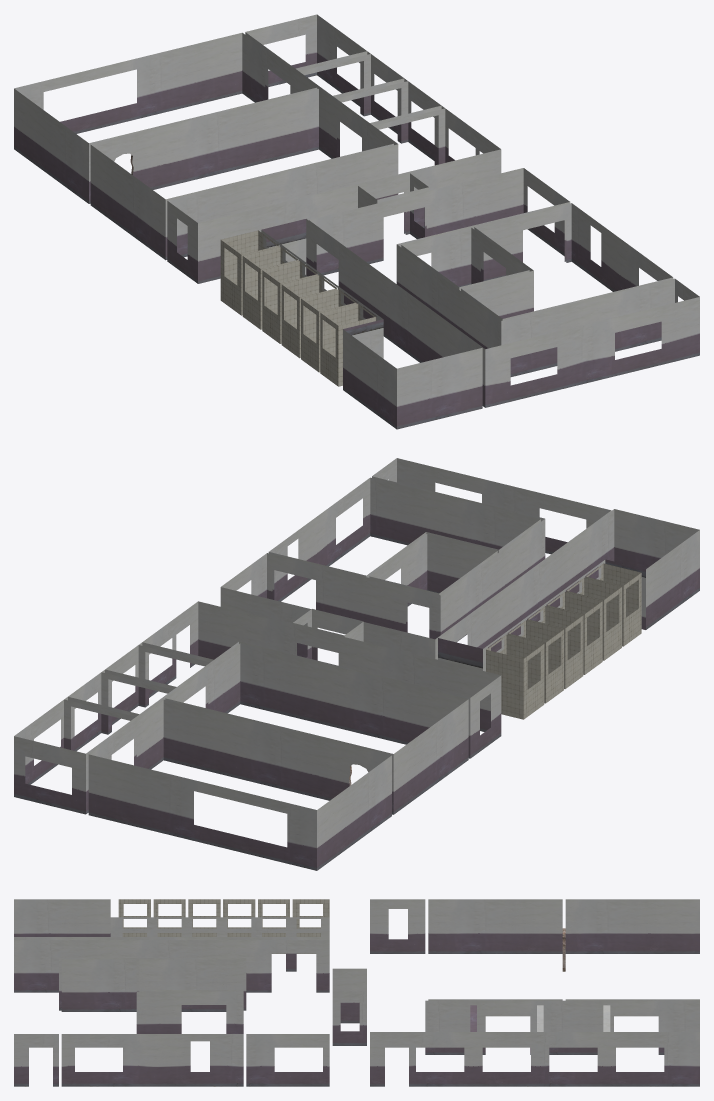
Rendered from A4_H1_Walls.FBX.
3 views of the same model, one above another, from view 1: azimuth 30°, elevation 25°; view 2: azimuth 150°, elevation 25°; view 3: azimuth 270°, elevation 25° (orthographic). The views are drawn at different scales.
Visible parts, largest first — view 1: A4_H1_Walls; view 2: A4_H1_Walls; view 3: A4_H1_Walls.
Part boxes in pixels (left/top/right/bottom): A4_H1_Walls: left=14, top=14, right=699, bottom=429; A4_H1_Walls: left=14, top=458, right=699, bottom=870; A4_H1_Walls: left=14, top=899, right=699, bottom=1086.
Bounding box in the file's own units: 1625 × 312 × 3556.
